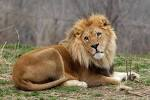lion: (12, 13, 141, 90)
